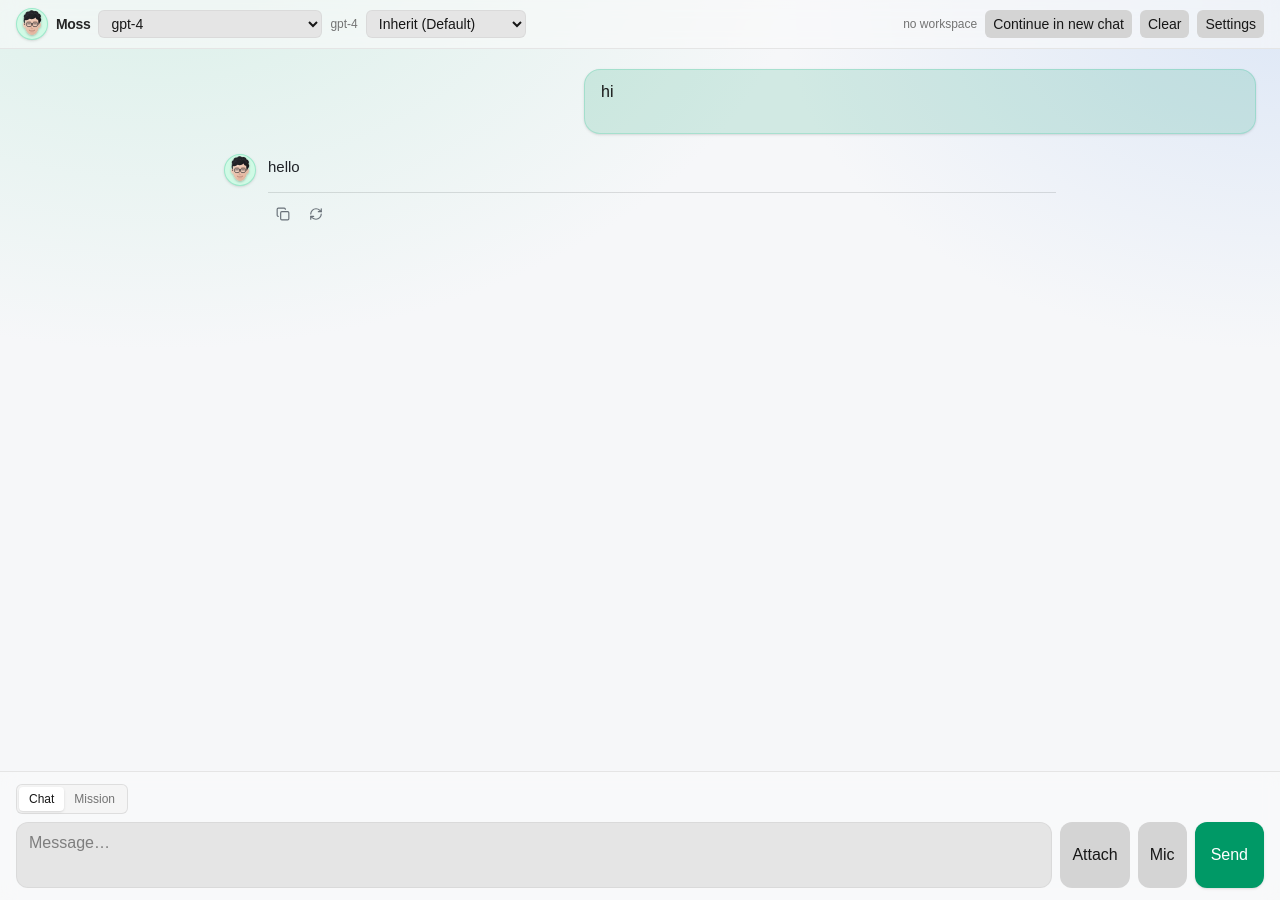
ChatPanel › falls back to the local digest and explains why when the summary fails
Click the button "Continue in new chat" at (1059, 24), box [985,10,1132,38]
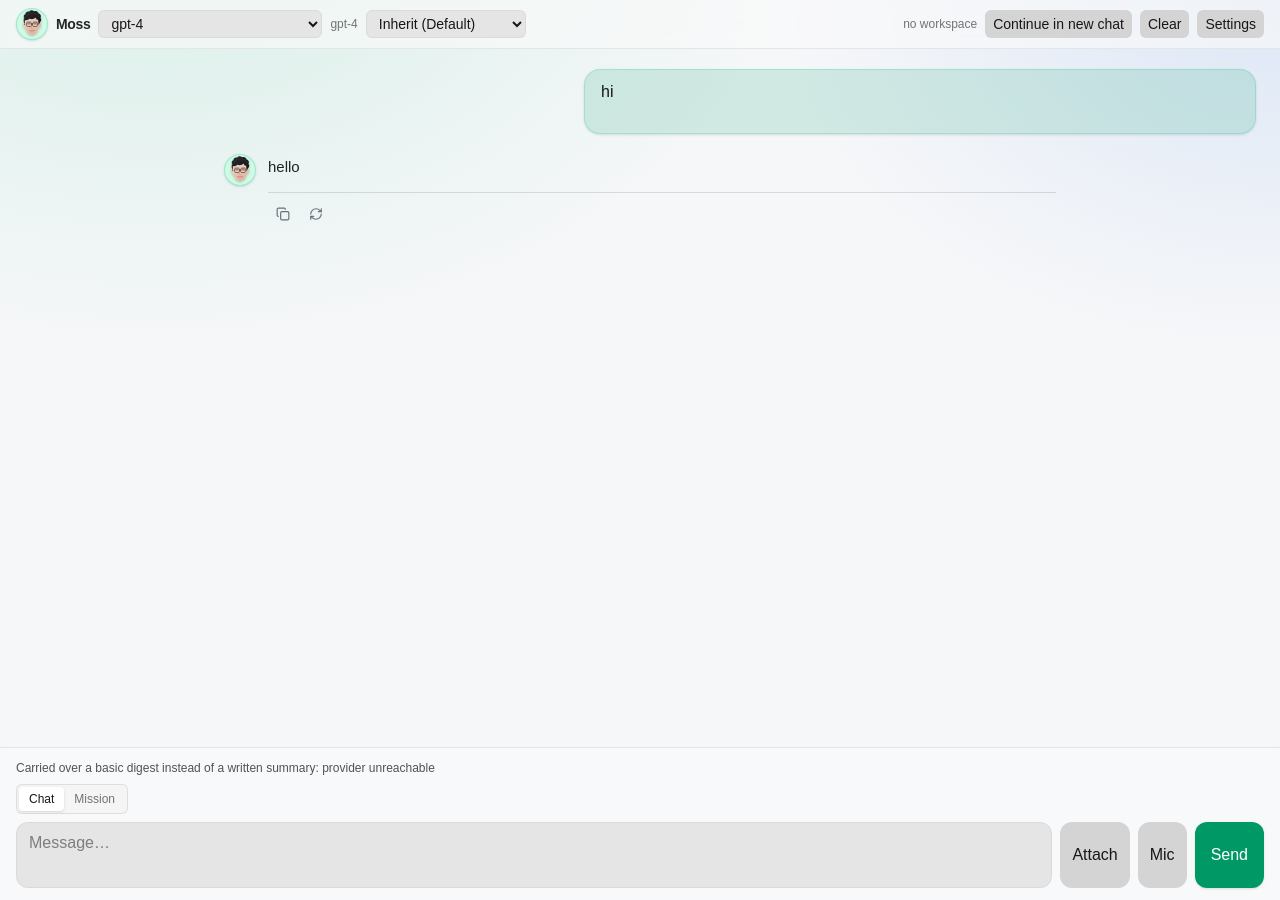
Expected: the text "provider unreachable" is shown, [16,761,435,775]
